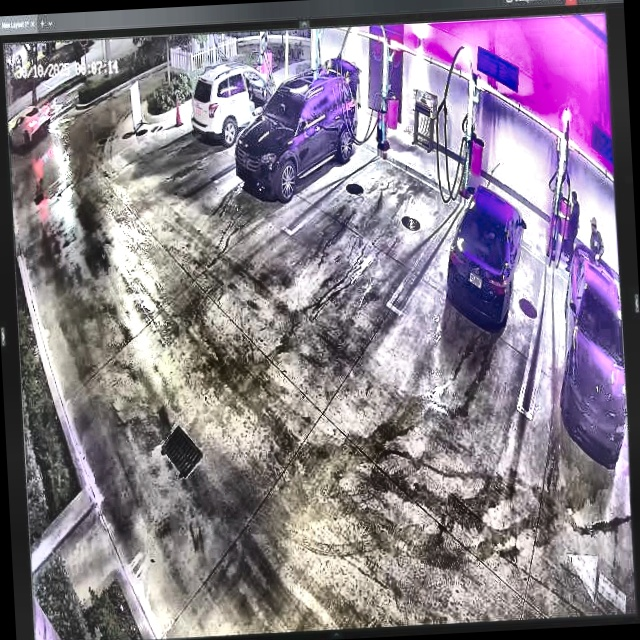Car: (230, 62, 365, 204), (442, 186, 532, 333), (188, 53, 288, 151)
